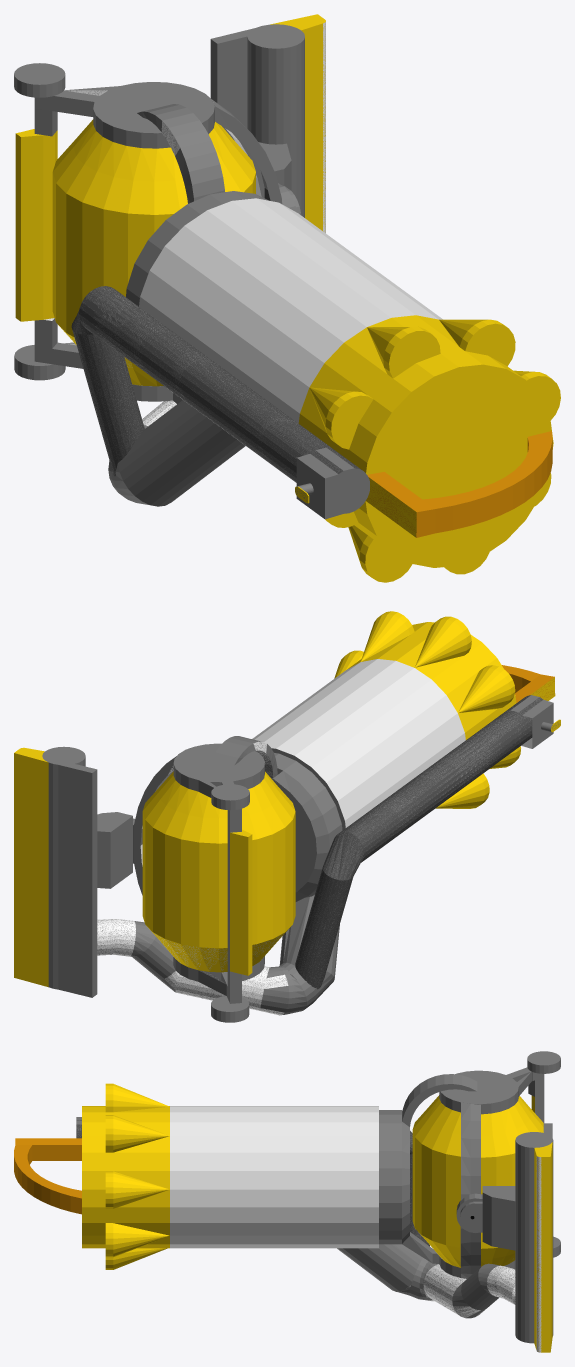
3 views of the same model, one above another, from view 1: azimuth 30°, elevation 25°; view 2: azimuth 150°, elevation 25°; view 3: azimuth 270°, elevation 25° (orthographic). The views are drawn at different scales.
Parts seen in each view (by area): view 1: unfinished dyson dc vacuum cleaner; view 2: unfinished dyson dc vacuum cleaner; view 3: unfinished dyson dc vacuum cleaner.
Boxes of the visible parts, x1=… form: unfinished dyson dc vacuum cleaner: x1=14, y1=14, x2=560, y2=582; unfinished dyson dc vacuum cleaner: x1=14, y1=611, x2=560, y2=1022; unfinished dyson dc vacuum cleaner: x1=14, y1=1051, x2=560, y2=1352.
Bounding box in the file's own units: 753 × 704 × 1480.
